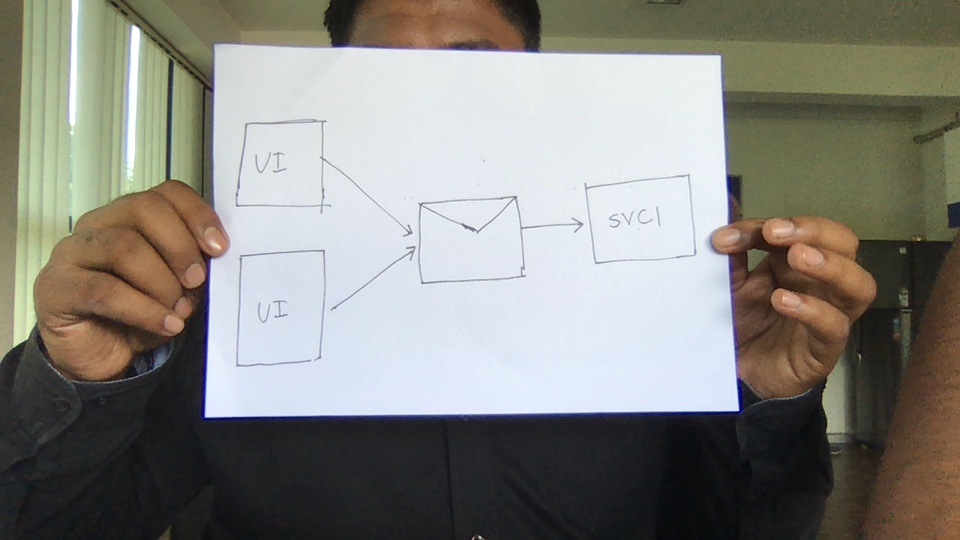ec2: (582, 172, 704, 267)
sns: (413, 193, 530, 290)
ui: (232, 247, 331, 371), (230, 114, 332, 217)
